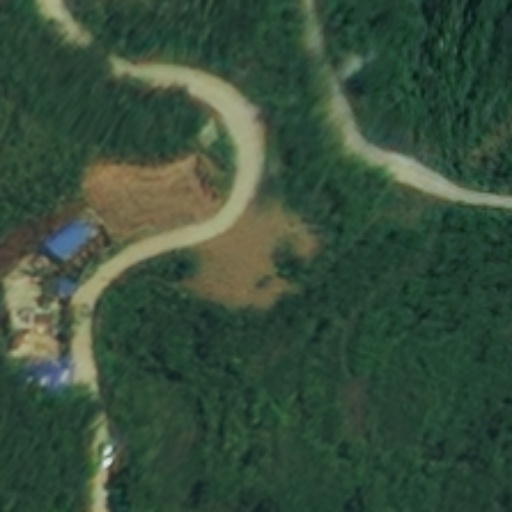landslide: (84, 157, 314, 315)
